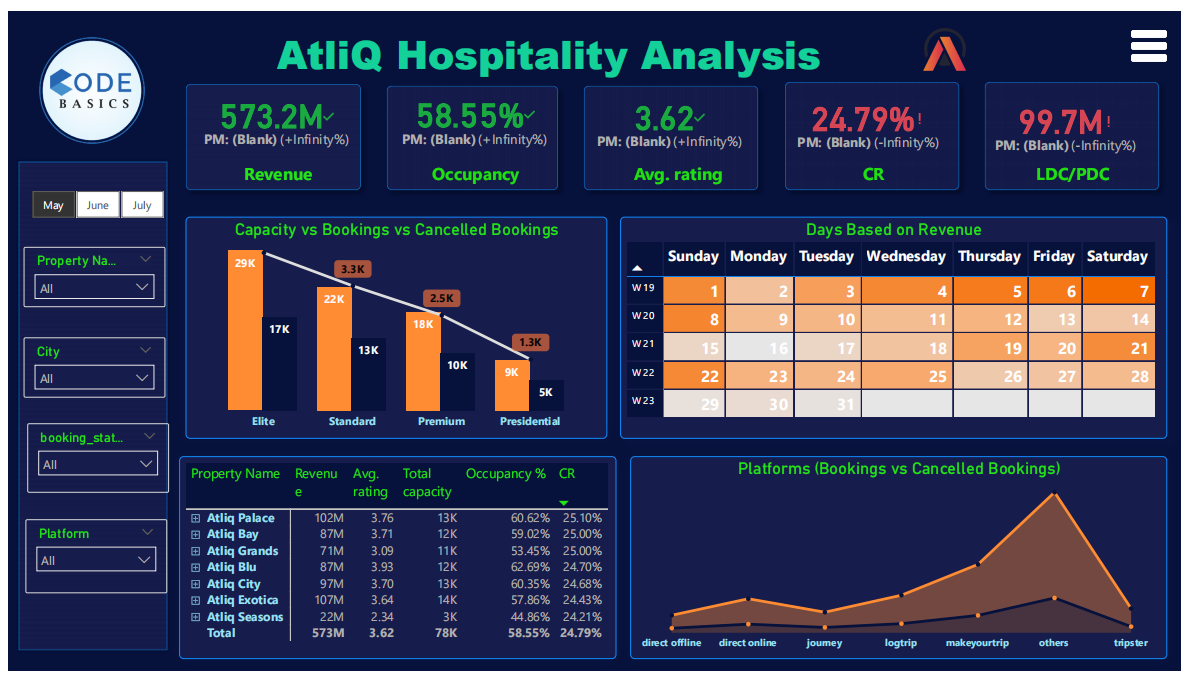

Layout of this report page (visuals, bound fields, positions):
{"tool":"powerbi","page":{"name":"Monthly","canvas":[1280,720],"ordinal":1},"visuals":[{"type":"image","title":"codebasics","box":[13.7,19.7,152.9,133.2],"z":0,"group":"g1"},{"type":"textbox","box":[1.1,10,1278.9,75.6],"z":1000,"group":"g1"},{"type":"shape","box":[185,70.2,208.3,134.4],"z":2000,"group":"g1"},{"type":"shape","box":[404.1,72.1,204.5,132.5],"z":3000,"group":"g1"},{"type":"shape","box":[619.5,72.1,208.3,132.5],"z":4000,"group":"g1"},{"type":"shape","box":[838.7,68.3,208.3,136.3],"z":5000,"group":"g1"},{"type":"shape","box":[1057.9,68.3,208.3,136.3],"z":6000,"group":"g1"},{"type":"shape","box":[8.2,161.7,167.7,539.2],"z":7000,"group":"g1"},{"type":"image","title":"atliq","box":[981.1,4.3,77.6,73.8],"z":8000,"group":"g1"},{"type":"group","id":"g1","title":"visuals","box":[0,4.3,1280,704.3],"z":8500},{"type":"image","title":"three dot menu","box":[1213.1,13.4,64.4,47.3],"z":9000},{"type":"textbox","box":[221.9,159.5,146.3,39.5],"z":10000,"group":"g1"},{"type":"textbox","box":[434,159.5,154.5,39.5],"z":11000,"group":"g1"},{"type":"textbox","box":[654.3,159.5,156.2,39.5],"z":12000,"group":"g1"},{"type":"textbox","box":[882.7,159.5,124.9,39.5],"z":13000,"group":"g1"},{"type":"textbox","box":[1088.2,159.5,151.2,39.5],"z":14000,"group":"g1"},{"type":"kpi","title":"Revenue","fields":{"Indicator":["resource_measures.revenue"],"TrendLine":["dim_date.date.Variation.Date Hierarchy.Month"],"Goal":["resource_measures.revenue LM"]},"box":[204.4,92.3,176.4,62.6],"z":15000,"group":"g1"},{"type":"kpi","fields":{"Indicator":["resource_measures.Occupancy %"],"TrendLine":["dim_date.date.Variation.Date Hierarchy.Month"],"Goal":["resource_measures.Occupancy % LM"]},"box":[423.7,89,171.5,65.9],"z":16000,"group":"g1"},{"type":"kpi","title":"Avg. rating ","fields":{"Indicator":["resource_measures.Avg. rating"],"TrendLine":["dim_date.date.Variation.Date Hierarchy.Month"],"Goal":["resource_measures.avg.rating LM"]},"box":[631.4,92.3,183,65.9],"z":17000,"group":"g1"},{"type":"kpi","fields":{"Goal":["resource_measures.cancellation rate LM"],"TrendLine":["dim_date.date.Variation.Date Hierarchy.Month"],"Indicator":["resource_measures.CR"]},"box":[852.3,90.7,174.8,72.5],"z":18000,"group":"g1"},{"type":"kpi","fields":{"Indicator":["resource_measures.LDC"],"Goal":["resource_measures.LDC LM"],"TrendLine":["dim_date.date.Variation.Date Hierarchy.Month"]},"box":[1068.3,89,174.8,80.8],"z":19000,"group":"g1"},{"type":"lineClusteredColumnComboChart","title":"Capacity vs Bookings vs Cancelled Bookings","fields":{"Category":["dim_rooms.room_class"],"Y":["resource_measures.Total capacity","resource_measures.Total sucessful bookings"],"Y2":["resource_measures.Total cancelled bookings"]},"box":[193.1,224.3,461,242.9],"z":20000,"group":"g1"},{"type":"pivotTable","fields":{"Rows":["dim_hotels.property_name","dim_hotels.city"],"Values":["resource_measures.revenue","resource_measures.Avg. rating","resource_measures.Total capacity","resource_measures.Occupancy %","resource_measures.CR"]},"box":[186.3,485.9,478.1,222],"z":21000,"group":"g1"},{"type":"areaChart","title":"Platforms (Bookings vs Cancelled Bookings)","fields":{"Category":["fact_bookings.booking_platform"],"Y":["resource_measures.Total bookings","resource_measures.Total cancelled bookings"]},"box":[679,485.9,587.1,222.7],"z":22000,"group":"g1"},{"type":"slicer","fields":{"Values":["dim_date.mmm yy.Variation.Date Hierarchy.Month"]},"box":[0,189.6,192.9,42.9],"z":23000,"group":"g1"},{"type":"slicer","fields":{"Values":["dim_hotels.property_name"]},"box":[16.5,257.2,155,65.9],"z":24000,"group":"g1"},{"type":"slicer","fields":{"Values":["dim_hotels.city"]},"box":[16.5,356.1,155,65.9],"z":25000,"group":"g1"},{"type":"slicer","fields":{"Values":["fact_bookings.booking_status"]},"box":[19.8,450.1,155,75.8],"z":26000,"group":"g1"},{"type":"slicer","fields":{"Values":["fact_bookings.booking_platform"]},"box":[18.1,555.6,155,80.8],"z":27000,"group":"g1"},{"type":"pivotTable","title":"Days Based on Revenue","fields":{"Rows":["dim_date.week no"],"Values":["Sum(dim_date.DAY)"],"Columns":["Week_day.week_name"]},"box":[668.1,224.3,598,242.9],"z":28000,"group":"g1"}]}

Visuals, with their boxes in screenshot pixels (x1, y1, x2, y2), scaled from the page's 1280x720 canvas onto the 1191x681 screenshot:
"codebasics" image: 13, 19, 155, 145
textbox: 1, 9, 1190, 81
shape: 172, 66, 366, 194
shape: 376, 68, 566, 194
shape: 576, 68, 770, 194
shape: 780, 65, 974, 194
shape: 984, 65, 1178, 194
shape: 8, 153, 164, 663
"atliq" image: 913, 4, 985, 74
"visuals" group: 0, 4, 1190, 670
"three dot menu" image: 1129, 13, 1189, 57
textbox: 206, 151, 343, 188
textbox: 404, 151, 548, 188
textbox: 609, 151, 754, 188
textbox: 821, 151, 938, 188
textbox: 1013, 151, 1153, 188
"Revenue" kpi: 190, 87, 354, 147
kpi - resource_measures.Occupancy % x dim_date.date.Variation.Date Hierarchy.Month: 394, 84, 554, 147
"Avg. rating " kpi: 587, 87, 758, 150
kpi - resource_measures.cancellation rate LM x dim_date.date.Variation.Date Hierarchy.Month: 793, 86, 956, 154
kpi - resource_measures.LDC x resource_measures.LDC LM: 994, 84, 1157, 161
"Capacity vs Bookings vs Cancelled Bookings" lineClusteredColumnComboChart: 180, 212, 609, 442
pivotTable - dim_hotels.property_name x dim_hotels.city: 173, 460, 618, 670
"Platforms (Bookings vs Cancelled Bookings)" areaChart: 632, 460, 1178, 670
slicer - dim_date.mmm yy.Variation.Date Hierarchy.Month: 0, 179, 179, 220
slicer - dim_hotels.property_name: 15, 243, 160, 306
slicer - dim_hotels.city: 15, 337, 160, 399
slicer - fact_bookings.booking_status: 18, 426, 163, 497
slicer - fact_bookings.booking_platform: 17, 526, 161, 602
"Days Based on Revenue" pivotTable: 622, 212, 1178, 442
